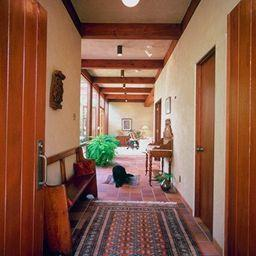Matera: (93, 131, 117, 164)
Puerta: (2, 2, 44, 255), (227, 11, 255, 248), (196, 57, 214, 235)
